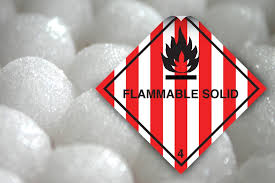FlammableSolid: (105, 17, 265, 164)
